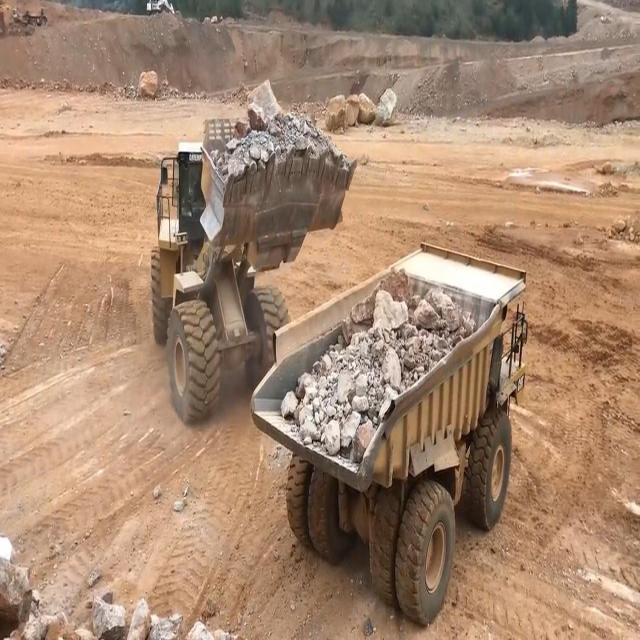Camion volquete: (248, 235, 532, 634)
pala cargadora: (148, 97, 359, 428)
